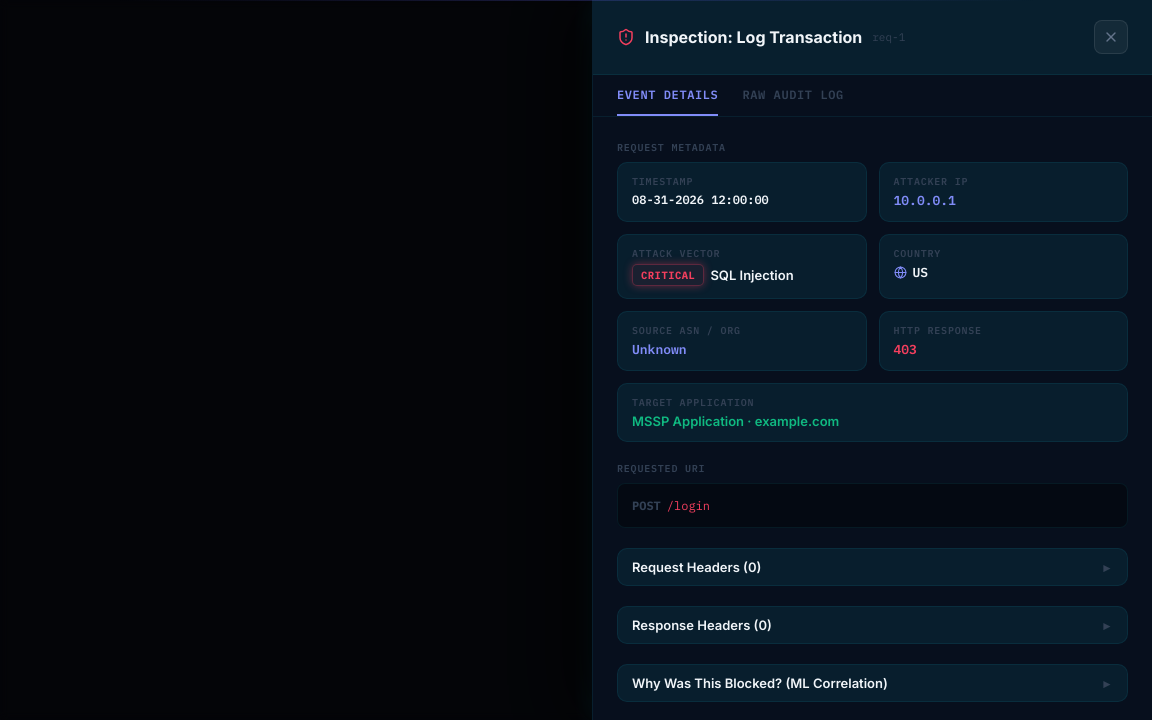
Scenario: LogDetailsModal — Why Was This Blocked? › shows the plain-language summary above the raw score grid once expanded
The width and height of the screenshot is (1152, 720).
What coordinates should you click on to do the following:
click the text "Why Was This Blocked? (ML Correlation)"
I would click on:
 (760, 683)
Its box is x1=632 y1=675 x2=888 y2=691.
(page scrolled)
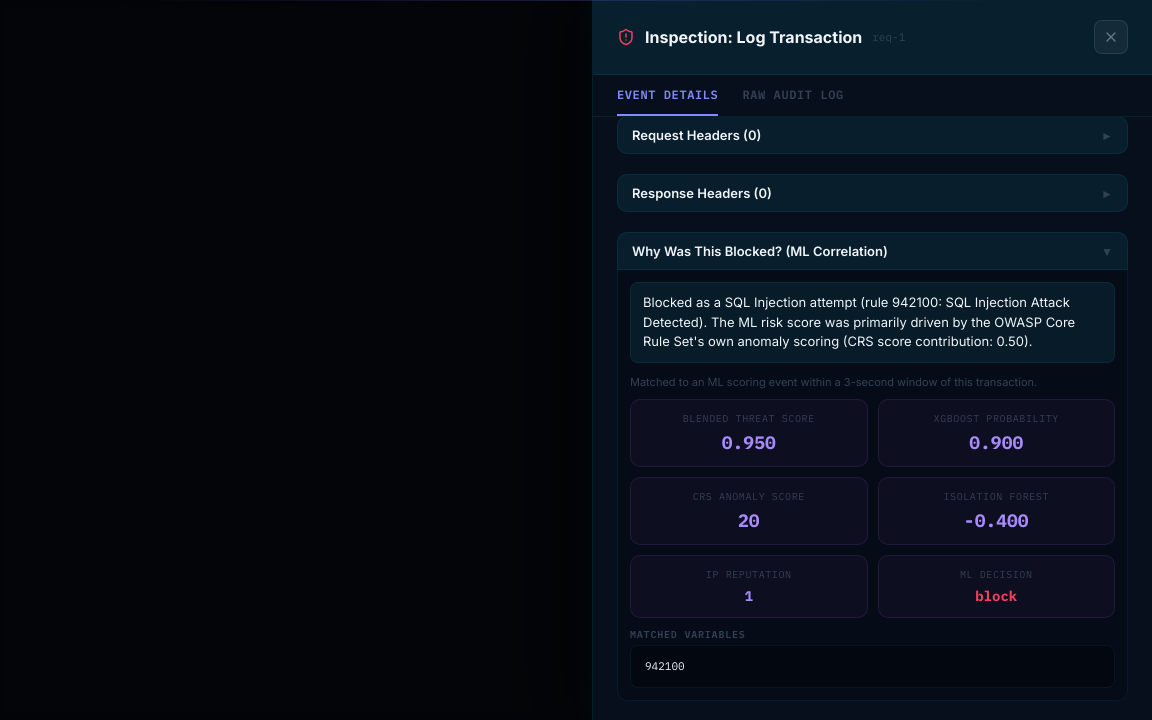
expect the text "The ML risk score was primarily driven by" is shown: met, box x1=643 y1=294 x2=1075 y2=349
expect the text "Blended Threat Score" is shown: met, box x1=683 y1=412 x2=815 y2=425
